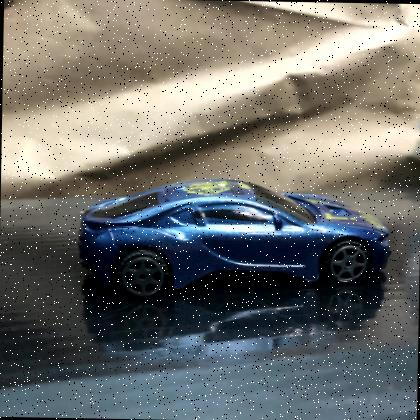Car: (77, 179, 391, 299)
